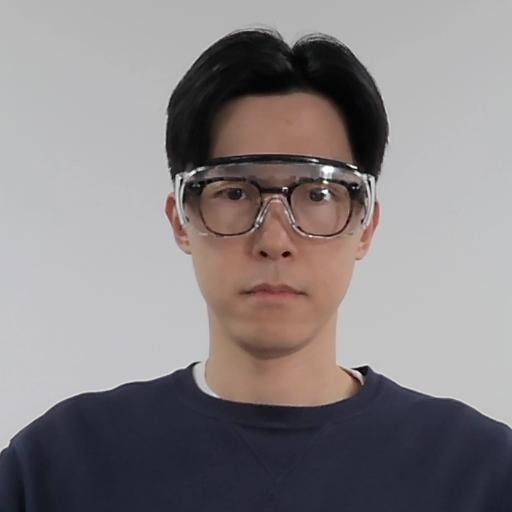glasses: (146, 36, 401, 347)
